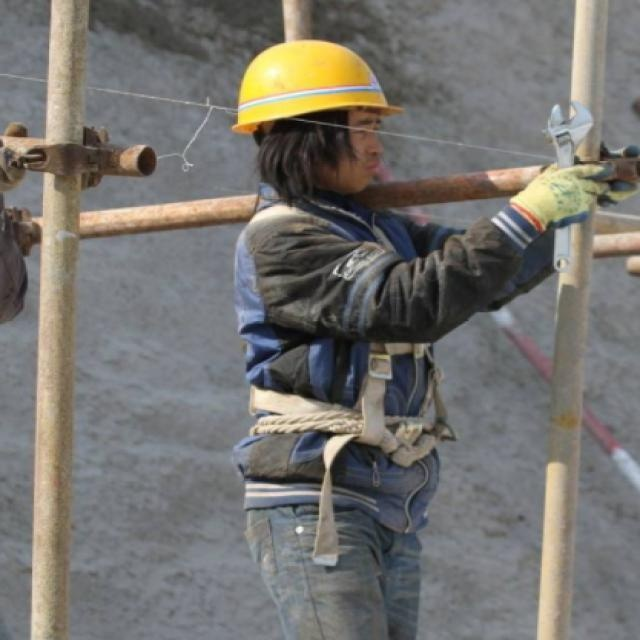Arnes_seguridad: (230, 192, 456, 472)
